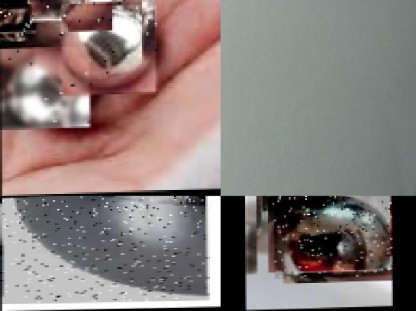ironball: (0, 196, 208, 303), (274, 196, 392, 278), (59, 3, 157, 92), (0, 44, 89, 128), (27, 0, 124, 20), (0, 44, 34, 96), (0, 2, 31, 35), (244, 196, 256, 274), (262, 196, 326, 210)
